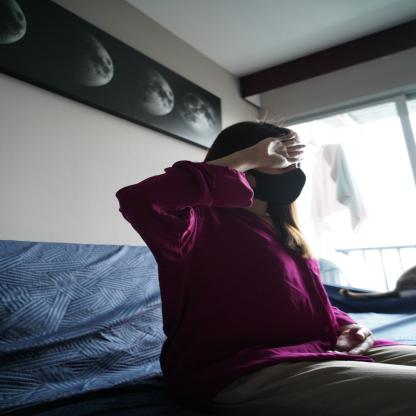Sick: (224, 130, 332, 177)
